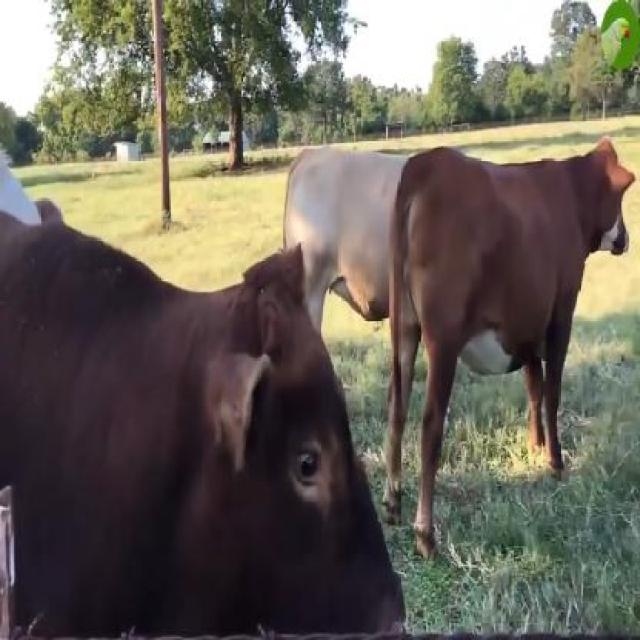Cow: (388, 148, 632, 554)
